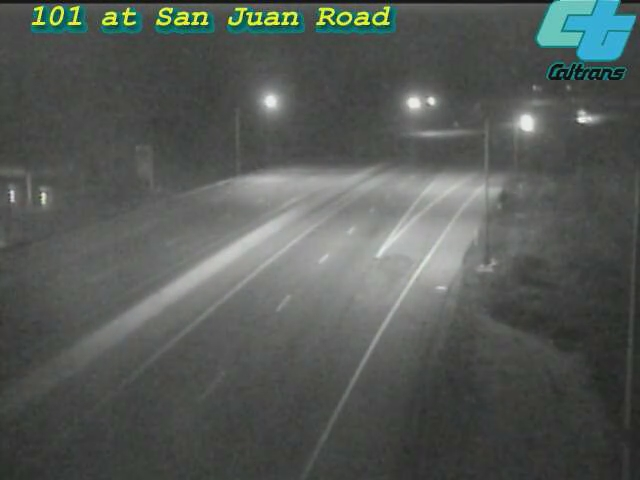vehicle: (565, 92, 615, 142), (499, 99, 549, 149)
